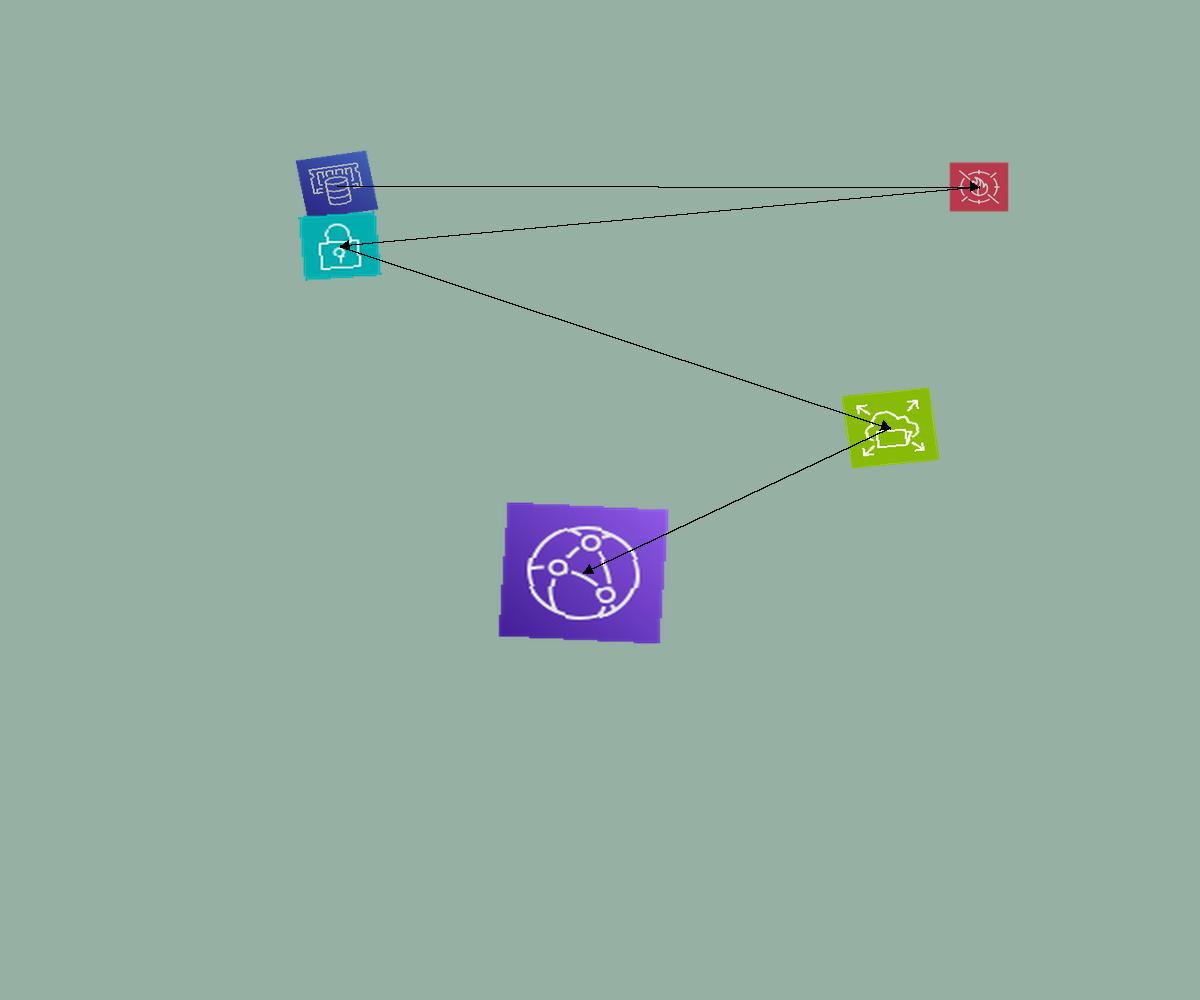AWS-CloudFront: (497, 501, 670, 645)
AWS-EFS: (841, 387, 940, 469)
AWS-ElastiCache: (295, 150, 379, 220)
AWS-Private-subnet: (298, 211, 382, 281)
AWS-WAF: (949, 162, 1009, 212)
